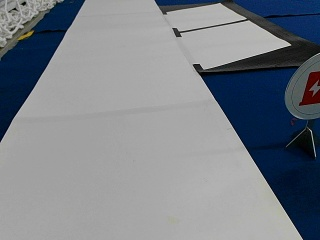battery: (285, 53, 319, 120)
